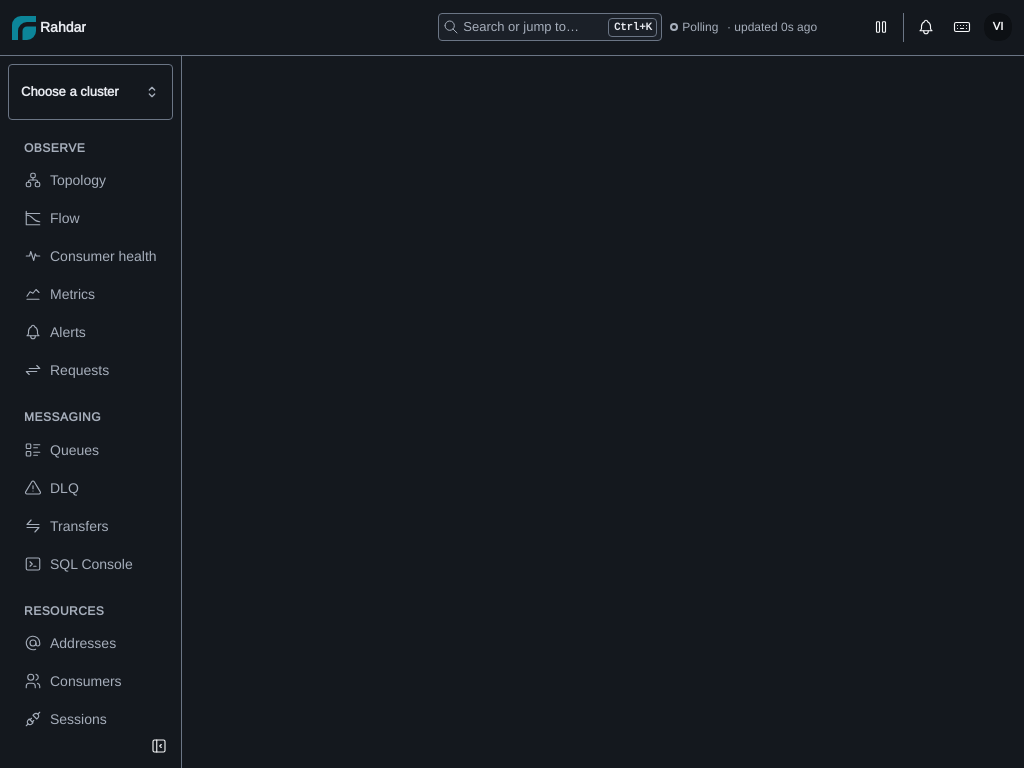
Test: RootLayout user menu › hides the Administration entry for a non-admin user
The image size is (1024, 768).
Click the button with aria-label "User menu": (998, 28) [984,14,1012,42]
(page scrolled)
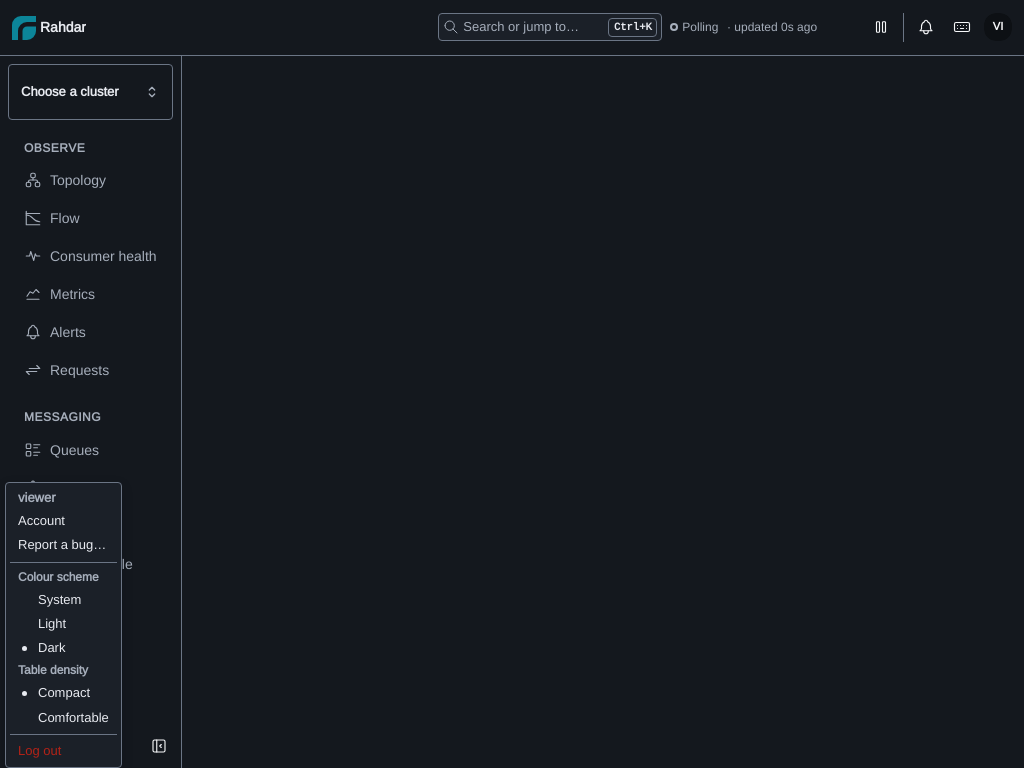
Expected: the text "viewer" is shown, [18,489,56,506]
